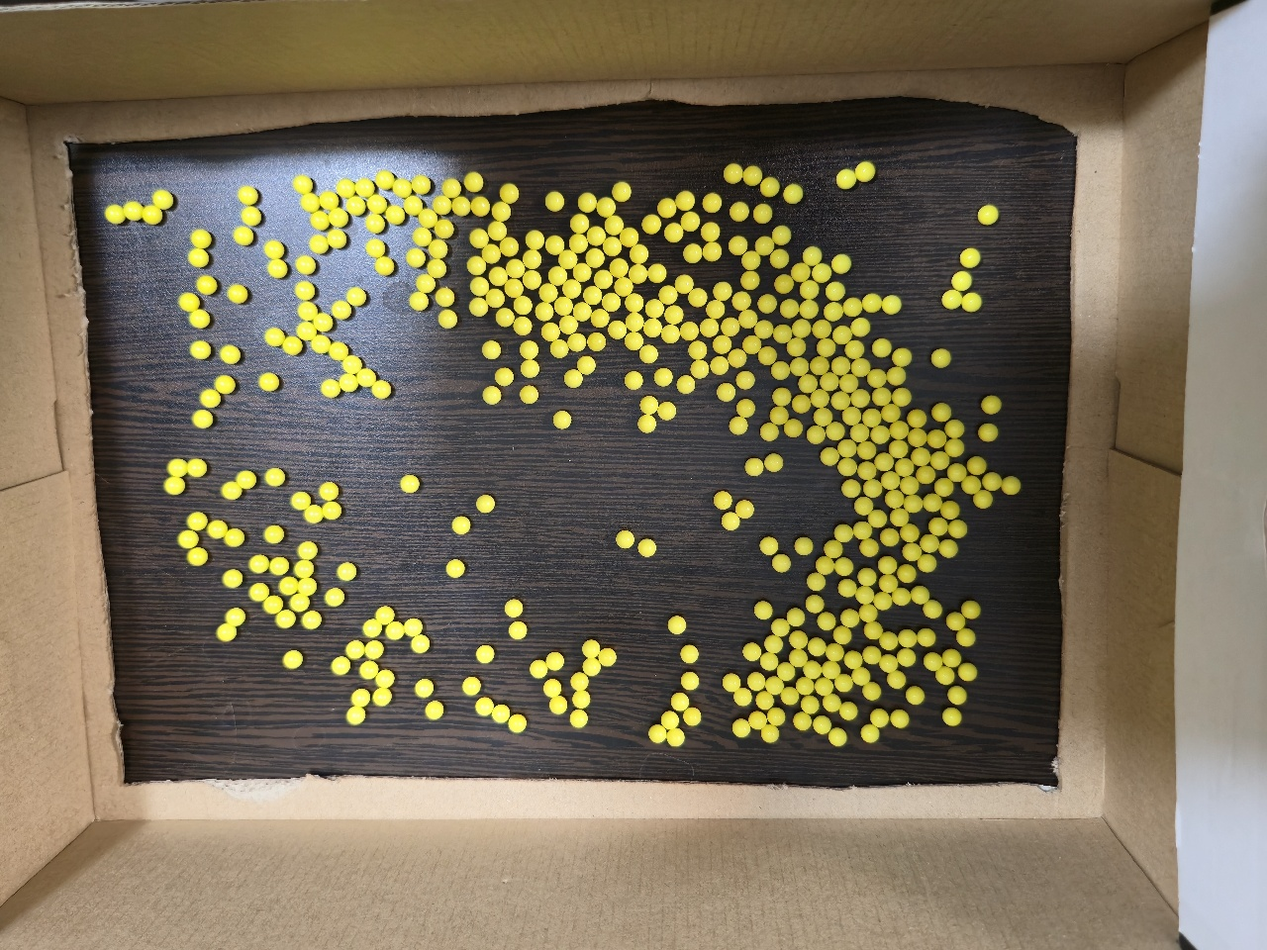yellow_bead: (221, 612, 242, 637), (224, 348, 237, 360), (156, 194, 169, 206), (300, 259, 312, 271), (369, 218, 381, 230), (245, 210, 257, 222), (982, 209, 994, 221), (371, 198, 383, 210), (445, 182, 457, 194), (252, 587, 265, 598), (191, 551, 204, 562), (268, 472, 281, 483), (196, 414, 209, 425), (204, 393, 217, 404), (194, 344, 207, 355), (192, 252, 205, 263), (376, 692, 388, 703), (287, 654, 299, 665), (349, 644, 360, 656), (389, 625, 401, 636), (366, 623, 378, 634), (267, 600, 279, 611), (229, 532, 241, 543), (323, 486, 335, 497), (375, 384, 387, 395), (219, 379, 231, 390), (315, 338, 327, 349), (194, 314, 206, 325), (302, 306, 314, 317), (965, 297, 977, 308), (413, 296, 425, 307), (946, 294, 958, 305), (232, 289, 244, 300), (420, 278, 432, 289), (956, 275, 967, 287), (552, 270, 563, 282), (965, 252, 976, 264), (268, 244, 280, 255), (607, 240, 618, 252), (195, 233, 207, 244), (609, 220, 620, 232), (685, 216, 696, 228), (423, 213, 434, 225), (390, 209, 401, 221), (408, 200, 419, 212), (350, 200, 361, 212), (788, 188, 799, 200), (416, 179, 427, 191), (379, 174, 390, 186), (841, 173, 852, 185), (747, 170, 758, 182), (859, 166, 871, 177), (293, 598, 306, 608), (252, 559, 265, 569), (294, 496, 307, 506), (225, 486, 238, 496), (168, 481, 181, 491), (262, 377, 275, 387), (350, 710, 361, 721), (419, 683, 430, 694), (363, 665, 374, 676), (308, 509, 319, 520), (325, 383, 336, 394), (361, 372, 372, 383), (855, 362, 866, 373), (346, 359, 357, 370), (855, 322, 866, 333), (318, 317, 329, 328), (442, 314, 453, 325), (336, 305, 347, 316), (847, 302, 858, 313), (473, 302, 484, 313), (490, 293, 501, 304), (439, 292, 450, 303), (474, 281, 485, 292), (493, 271, 504, 282), (817, 268, 828, 279), (651, 268, 662, 279), (633, 268, 644, 279), (431, 263, 442, 274), (272, 263, 283, 274), (471, 260, 482, 271), (379, 260, 390, 271), (410, 252, 421, 263), (486, 248, 497, 259), (707, 246, 718, 257), (504, 241, 515, 252), (549, 239, 560, 250), (474, 233, 485, 244), (417, 231, 428, 242), (492, 226, 503, 237), (646, 219, 657, 230), (314, 216, 325, 227), (109, 209, 120, 220), (549, 196, 560, 207), (680, 195, 691, 206), (359, 182, 370, 193), (587, 660, 597, 672), (369, 644, 379, 656), (407, 622, 419, 632), (279, 614, 291, 624), (329, 593, 341, 603), (227, 574, 239, 584), (298, 564, 310, 574), (301, 545, 313, 555), (182, 534, 194, 544), (268, 529, 280, 539), (211, 524, 223, 534), (350, 292, 362, 302), (590, 252, 600, 264), (808, 250, 818, 262), (634, 248, 644, 260), (314, 238, 324, 250), (439, 223, 449, 235), (575, 218, 585, 230), (305, 197, 315, 209), (617, 186, 627, 198), (574, 713, 584, 724), (479, 702, 490, 712), (355, 694, 366, 704), (379, 674, 390, 684), (336, 661, 346, 672), (927, 657, 938, 667), (415, 639, 426, 649), (306, 615, 317, 625), (302, 582, 313, 592), (282, 581, 292, 592), (341, 567, 352, 577), (450, 563, 460, 574), (274, 561, 285, 571), (857, 525, 868, 535), (327, 506, 338, 516), (480, 499, 491, 509), (404, 479, 415, 489), (241, 475, 252, 485), (192, 463, 203, 473), (171, 463, 182, 473), (847, 411, 857, 422), (844, 378, 854, 389), (891, 371, 902, 381), (525, 364, 536, 374), (795, 361, 805, 372), (897, 352, 908, 362), (524, 345, 535, 355), (486, 345, 497, 355), (333, 345, 343, 356), (849, 344, 860, 354), (554, 343, 564, 354), (287, 340, 297, 351), (269, 332, 280, 342), (301, 326, 312, 336), (647, 323, 658, 333), (518, 321, 528, 332), (595, 313, 605, 324), (669, 310, 679, 321), (805, 304, 815, 315), (649, 304, 660, 314), (558, 301, 569, 311), (518, 300, 528, 311), (867, 298, 877, 309), (607, 297, 617, 308), (830, 286, 840, 297), (718, 286, 728, 297), (301, 285, 311, 296), (509, 283, 520, 293), (599, 274, 609, 285), (527, 274, 537, 285), (577, 267, 587, 278), (511, 263, 521, 274), (614, 262, 625, 272), (836, 258, 846, 269), (746, 255, 756, 266), (563, 254, 573, 265), (775, 253, 785, 264), (688, 248, 698, 259), (433, 243, 443, 254), (370, 243, 381, 253), (760, 240, 770, 251), (733, 240, 743, 251), (574, 238, 584, 249), (591, 231, 602, 241), (238, 231, 249, 241), (706, 227, 716, 238), (334, 212, 344, 223), (758, 208, 768, 219), (734, 206, 744, 217), (497, 206, 507, 217), (602, 202, 612, 213), (456, 201, 466, 212), (324, 195, 335, 205), (243, 190, 253, 201), (397, 183, 407, 194), (765, 182, 775, 193), (191, 517, 203, 526), (128, 205, 137, 217), (437, 199, 446, 211), (297, 179, 309, 188), (470, 176, 479, 188), (865, 728, 875, 738), (513, 719, 523, 729), (798, 716, 808, 726), (665, 715, 675, 725), (875, 713, 885, 723), (952, 691, 962, 701), (911, 691, 921, 701), (466, 682, 476, 692), (770, 681, 780, 691), (838, 678, 848, 688), (892, 675, 902, 685), (940, 671, 950, 681), (781, 667, 791, 677), (808, 665, 818, 675), (884, 659, 894, 669), (867, 650, 877, 660), (480, 649, 490, 659), (812, 642, 822, 652), (884, 636, 894, 646), (794, 635, 804, 645), (513, 625, 523, 635), (672, 620, 682, 630), (509, 604, 519, 614), (860, 591, 870, 601), (812, 577, 822, 587), (839, 562, 849, 572), (777, 558, 787, 568), (908, 547, 918, 557), (642, 543, 652, 553), (621, 534, 631, 544), (859, 501, 869, 511), (927, 498, 937, 508), (868, 484, 878, 494), (846, 484, 856, 494), (905, 481, 915, 491), (952, 468, 962, 478), (862, 466, 872, 476), (900, 462, 910, 472), (842, 462, 852, 472), (862, 445, 872, 455), (894, 444, 904, 454), (842, 443, 852, 453), (875, 429, 885, 439), (812, 429, 822, 439), (855, 428, 865, 438), (557, 415, 567, 425), (867, 413, 877, 423), (662, 406, 672, 416), (741, 404, 751, 414), (644, 401, 654, 411), (836, 396, 846, 406), (855, 394, 865, 404), (815, 394, 825, 404), (877, 392, 887, 402), (487, 391, 497, 401), (525, 390, 535, 400), (681, 380, 691, 390), (343, 378, 353, 388), (500, 372, 510, 382), (776, 366, 786, 376), (836, 361, 846, 371), (715, 360, 725, 370), (936, 353, 946, 363), (732, 353, 742, 363), (693, 345, 703, 355), (877, 343, 887, 353), (792, 342, 802, 352), (718, 339, 728, 349), (572, 337, 582, 347), (837, 330, 847, 340), (778, 329, 788, 339), (546, 327, 556, 337), (685, 326, 695, 336), (564, 320, 574, 330), (743, 314, 753, 324), (828, 307, 838, 317), (577, 307, 587, 317), (539, 307, 549, 317), (785, 304, 795, 314), (887, 300, 897, 310), (737, 296, 747, 306), (543, 288, 553, 298), (805, 285, 815, 295), (567, 284, 577, 294), (619, 282, 629, 292), (780, 279, 790, 289), (679, 279, 689, 289), (796, 267, 806, 277), (530, 235, 540, 245), (332, 234, 342, 244), (777, 230, 787, 240), (669, 228, 679, 238), (708, 198, 718, 208), (577, 694, 586, 705), (575, 677, 584, 688), (587, 644, 596, 655), (379, 611, 390, 620), (966, 481, 977, 490), (898, 392, 907, 403), (817, 325, 828, 334), (501, 312, 510, 323), (712, 304, 721, 315), (630, 298, 639, 309), (528, 254, 537, 265), (663, 203, 672, 214), (506, 188, 515, 199), (341, 183, 350, 194), (729, 168, 738, 179), (631, 316, 639, 328), (583, 197, 591, 209), (833, 732, 842, 742), (671, 732, 680, 742), (653, 729, 662, 739), (766, 728, 775, 738), (818, 720, 827, 730), (895, 714, 905, 723), (947, 712, 957, 721), (496, 709, 506, 718), (429, 706, 439, 715), (554, 701, 563, 711), (806, 700, 815, 710), (761, 696, 770, 706), (738, 692, 747, 702), (786, 691, 795, 701), (867, 687, 877, 696), (548, 684, 557, 694), (819, 683, 829, 692), (801, 681, 810, 691), (752, 677, 761, 687), (856, 672, 866, 681), (764, 657, 774, 666), (550, 657, 560, 666), (902, 653, 912, 662), (829, 648, 839, 657), (747, 648, 757, 657), (769, 640, 779, 649), (903, 634, 913, 643), (961, 633, 971, 642), (845, 614, 855, 623), (759, 606, 768, 616), (916, 591, 926, 600), (884, 580, 894, 589), (883, 561, 893, 570), (821, 561, 830, 571), (923, 558, 932, 568), (829, 544, 838, 554), (800, 541, 809, 551), (765, 541, 774, 551), (886, 532, 895, 542), (839, 528, 848, 538), (456, 521, 466, 530), (895, 513, 905, 522), (740, 505, 749, 515), (909, 500, 919, 509), (978, 495, 988, 504), (891, 494, 900, 504), (988, 478, 998, 487), (886, 476, 896, 485), (922, 470, 931, 480), (749, 463, 759, 472), (769, 458, 779, 467), (880, 457, 889, 467), (936, 455, 945, 465), (916, 452, 926, 461), (914, 432, 923, 442), (830, 427, 840, 436), (950, 425, 960, 434), (642, 419, 652, 428), (819, 413, 828, 423), (775, 411, 784, 421), (797, 400, 807, 409), (777, 393, 787, 402), (804, 379, 813, 389), (825, 377, 834, 387), (741, 375, 750, 385), (872, 374, 882, 383), (569, 374, 578, 384), (658, 373, 668, 382), (696, 364, 705, 374), (816, 361, 825, 371), (582, 360, 591, 370), (763, 351, 772, 361), (644, 349, 653, 359), (748, 340, 757, 350), (630, 336, 639, 346), (666, 329, 675, 339), (759, 325, 769, 334), (613, 325, 623, 334), (797, 324, 807, 333), (705, 323, 715, 332), (726, 322, 735, 332), (763, 299, 772, 309), (693, 293, 703, 302), (746, 275, 755, 285), (478, 201, 486, 212), (737, 724, 746, 733), (753, 716, 762, 725), (772, 712, 781, 721), (844, 707, 853, 716), (676, 698, 685, 707), (727, 679, 736, 688), (686, 677, 695, 686), (963, 668, 972, 677), (827, 666, 836, 675), (794, 654, 803, 663), (603, 653, 612, 662), (685, 650, 694, 659), (922, 633, 931, 642), (838, 631, 847, 640), (869, 626, 878, 635), (776, 623, 785, 632), (822, 617, 831, 626), (792, 613, 801, 622), (811, 600, 820, 609), (897, 593, 906, 602), (843, 584, 852, 593), (863, 573, 872, 582), (903, 570, 912, 579), (944, 544, 953, 553), (865, 543, 874, 552), (925, 539, 934, 548), (954, 524, 963, 533), (934, 522, 943, 531), (719, 496, 728, 505), (939, 484, 948, 493), (896, 426, 905, 435), (734, 421, 743, 430), (887, 409, 896, 418), (987, 401, 996, 410), (722, 388, 731, 397), (535, 664, 543, 674), (848, 657, 858, 665), (951, 618, 961, 626), (966, 607, 976, 615), (878, 598, 888, 606), (873, 515, 883, 523), (951, 443, 959, 453), (789, 424, 799, 432), (823, 342, 831, 352), (594, 337, 602, 347), (663, 290, 671, 300), (588, 290, 595, 301), (147, 209, 158, 216), (689, 712, 697, 721), (828, 699, 836, 708), (948, 654, 956, 663), (864, 609, 873, 617), (928, 606, 937, 614), (727, 517, 735, 526), (1007, 482, 1016, 490), (973, 462, 981, 471), (826, 452, 834, 461), (934, 434, 942, 443), (984, 428, 993, 436), (765, 428, 774, 436), (938, 409, 946, 418), (630, 376, 638, 385), (906, 528, 913, 538), (627, 232, 634, 242), (183, 298, 191, 306), (915, 417, 923, 424), (947, 510, 955, 516), (201, 283, 208, 288), (1247, 429, 1248, 431), (1244, 425, 1245, 426)
